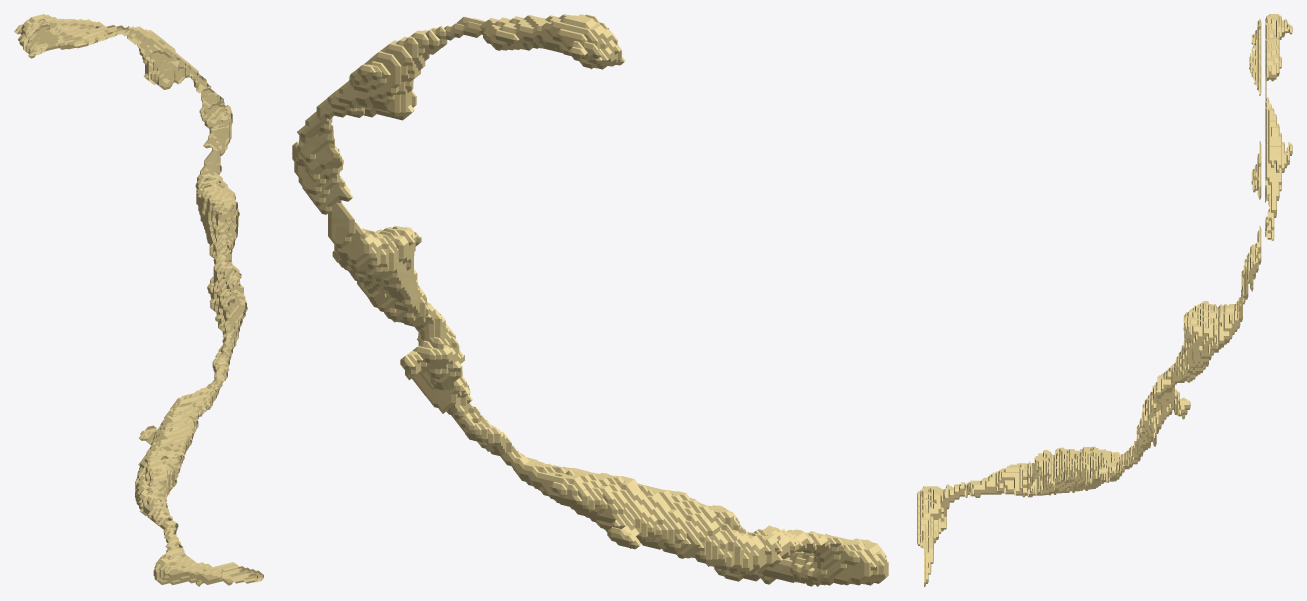
Rendered from SVV_ASHR.gltf.
3 renders of one model, left to right at view 1: azimuth 30°, elevation 25°; view 2: azimuth 150°, elevation 25°; view 3: azimuth 270°, elevation 25°, orthographic. The views are drawn at different scales.
Parts seen in each view (by area): view 1: ASHR; view 2: ASHR; view 3: ASHR.
Boxes of the visible parts, left/top/right/bottom form: ASHR: left=14, top=14, right=263, bottom=586; ASHR: left=292, top=14, right=888, bottom=586; ASHR: left=917, top=14, right=1292, bottom=586.
Bounding box in the file's own units: 42000 × 86060 × 55075.
